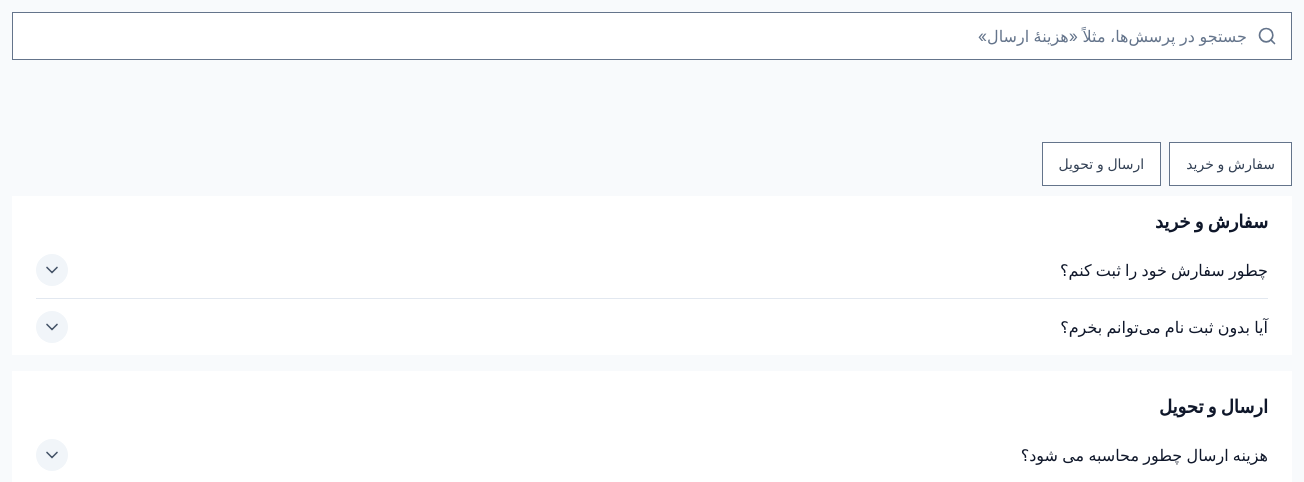
the search › shows its empty state when nothing matches, with the way to ask the shop
Type "گارانتی" into the search field with placeholder "جستجو در پرسش‌ها، مثلاً «هزینهٔ ارسال»" at (635, 36), box left=13, top=13, right=1257, bottom=59
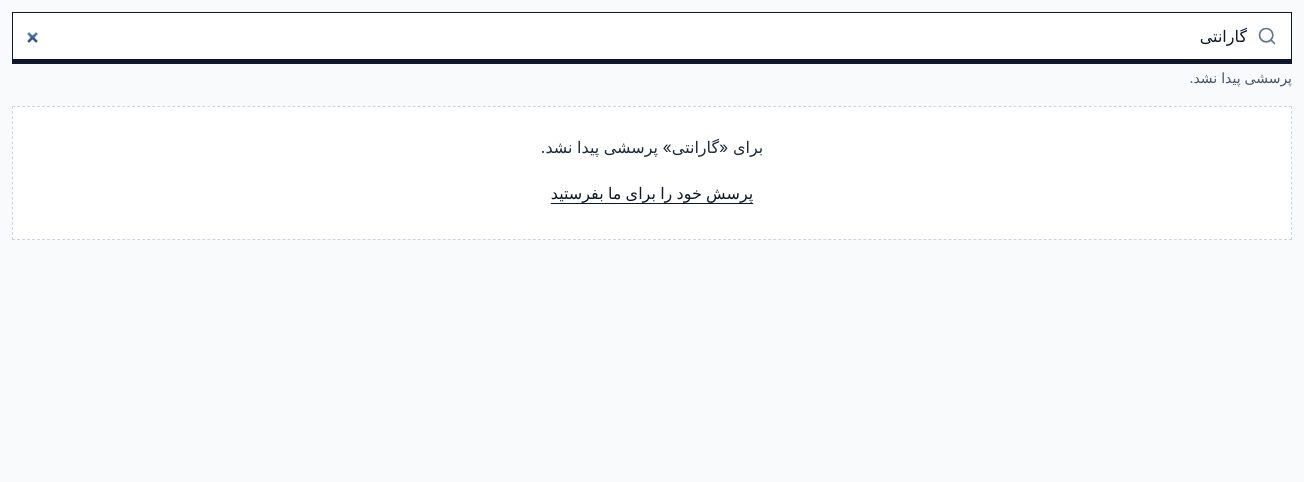
Now the message reads "پرسشی پیدا نشد.", box left=1190, top=69, right=1292, bottom=86
Now the text "برای «گارانتی» پرسشی پیدا نشد." is shown, box left=541, top=137, right=763, bottom=157
